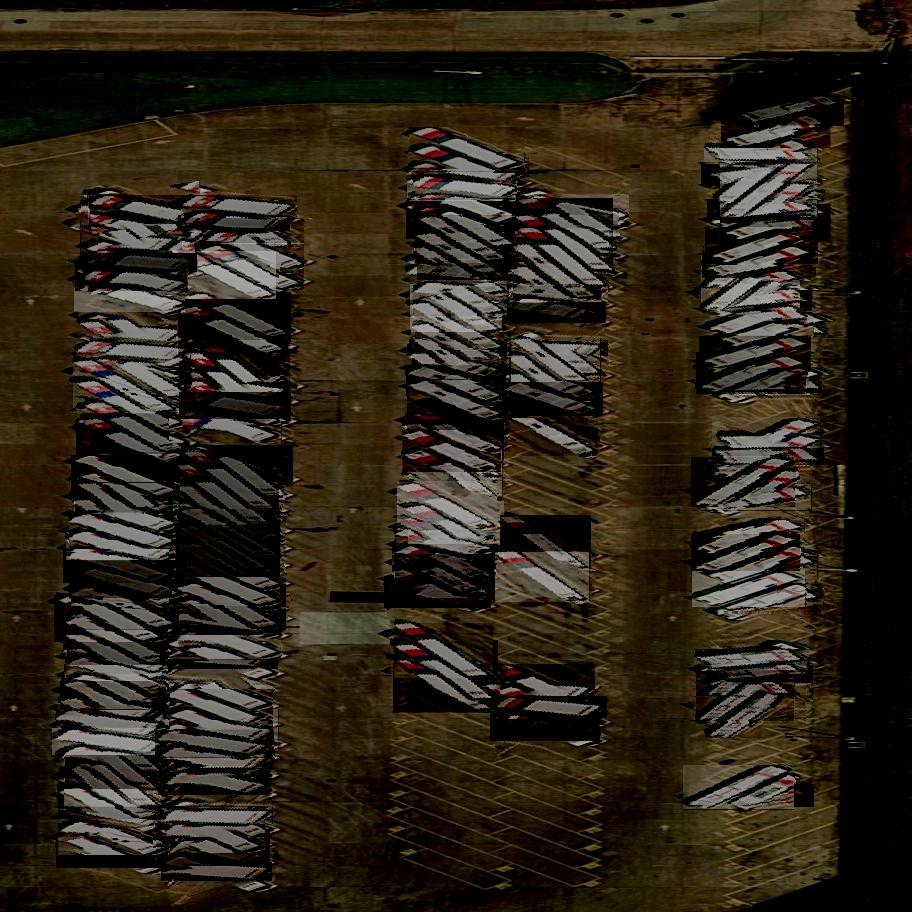large-vehicle: (191, 330, 290, 414), (399, 629, 498, 713), (81, 291, 183, 371), (80, 185, 182, 265), (167, 650, 266, 732), (65, 734, 161, 818), (177, 568, 285, 641), (65, 718, 161, 800), (178, 455, 274, 537), (181, 440, 278, 520), (181, 477, 277, 557), (73, 352, 179, 424), (393, 614, 493, 690), (202, 210, 304, 284), (702, 245, 800, 322), (75, 474, 173, 551), (181, 352, 288, 422), (57, 761, 167, 829), (720, 152, 817, 229), (176, 515, 280, 586), (705, 676, 806, 749), (71, 572, 179, 640), (55, 585, 166, 650), (60, 672, 166, 740), (698, 659, 795, 733), (408, 434, 502, 510), (176, 499, 281, 567), (408, 490, 504, 564), (65, 640, 174, 705), (692, 449, 796, 517), (518, 220, 609, 297), (67, 606, 173, 672), (83, 394, 187, 461), (515, 206, 613, 277), (183, 285, 291, 349), (408, 398, 504, 470), (393, 655, 499, 720), (683, 758, 794, 820), (179, 300, 288, 363), (156, 799, 265, 862), (410, 120, 525, 179), (500, 505, 591, 579), (495, 542, 590, 612), (486, 656, 595, 717), (194, 237, 304, 297), (516, 191, 613, 259), (712, 411, 820, 472), (74, 465, 181, 526), (173, 244, 276, 307), (396, 475, 497, 539), (58, 805, 169, 863), (77, 378, 184, 438), (511, 328, 600, 400), (172, 557, 280, 615), (416, 208, 513, 272), (417, 223, 508, 291), (71, 449, 181, 505), (179, 438, 292, 492), (169, 702, 279, 757), (163, 683, 273, 738), (409, 276, 502, 341), (512, 242, 602, 309), (509, 347, 596, 416), (76, 417, 189, 470), (411, 330, 499, 398), (697, 347, 807, 401), (413, 262, 507, 325), (63, 538, 178, 589), (395, 547, 494, 606), (692, 527, 800, 581), (68, 215, 184, 265), (402, 423, 501, 481), (168, 616, 281, 666), (505, 404, 599, 464), (169, 399, 281, 449), (705, 222, 818, 271), (406, 196, 516, 246), (415, 297, 504, 358), (720, 199, 830, 248), (407, 373, 505, 428), (705, 294, 814, 342), (79, 349, 192, 394), (693, 567, 806, 612), (156, 826, 270, 870), (69, 509, 178, 555), (63, 636, 176, 680), (74, 273, 185, 317), (70, 561, 180, 604), (699, 332, 811, 373), (502, 377, 602, 422), (63, 672, 176, 711), (75, 257, 187, 295), (693, 515, 804, 553), (722, 114, 830, 153), (406, 361, 506, 403), (518, 191, 629, 228), (89, 192, 203, 228), (56, 794, 170, 830), (392, 540, 497, 579), (158, 763, 270, 799), (66, 529, 178, 565), (384, 575, 491, 612), (52, 726, 171, 759), (737, 93, 843, 130), (156, 728, 274, 761), (56, 836, 164, 872), (56, 707, 167, 742), (702, 248, 816, 282), (490, 709, 599, 744), (179, 389, 290, 423), (701, 481, 811, 514), (704, 551, 817, 583), (411, 155, 528, 185), (395, 524, 498, 558), (408, 170, 518, 201), (172, 554, 285, 584), (172, 607, 281, 638), (712, 586, 824, 616), (181, 194, 297, 222), (505, 294, 605, 326), (701, 162, 812, 189), (494, 695, 607, 721), (708, 197, 818, 222), (162, 648, 277, 671), (702, 289, 812, 313), (77, 340, 190, 363), (695, 649, 807, 672), (722, 782, 813, 810), (406, 260, 507, 285), (407, 193, 518, 215), (81, 252, 197, 273), (510, 281, 608, 305), (161, 861, 272, 882), (716, 321, 828, 341), (708, 664, 812, 684), (161, 807, 272, 825), (159, 753, 273, 770), (179, 215, 290, 231), (410, 339, 506, 357), (704, 147, 817, 162), (510, 340, 608, 357), (713, 449, 823, 464), (714, 378, 822, 390)
